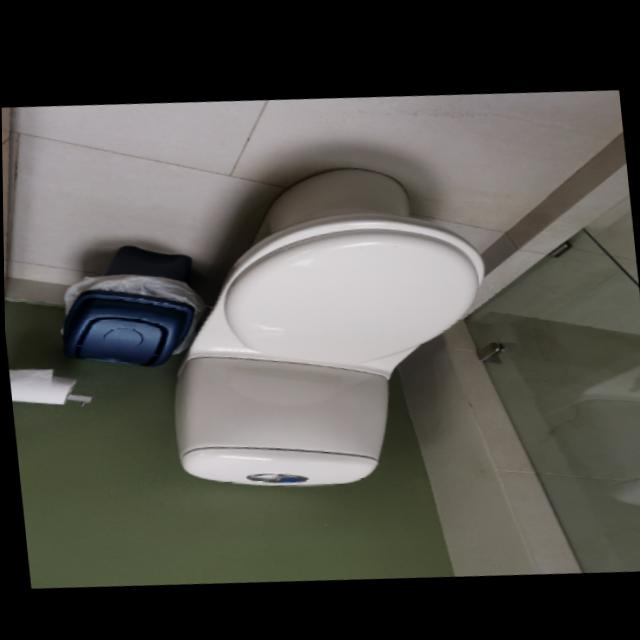toilet: (146, 144, 505, 504)
